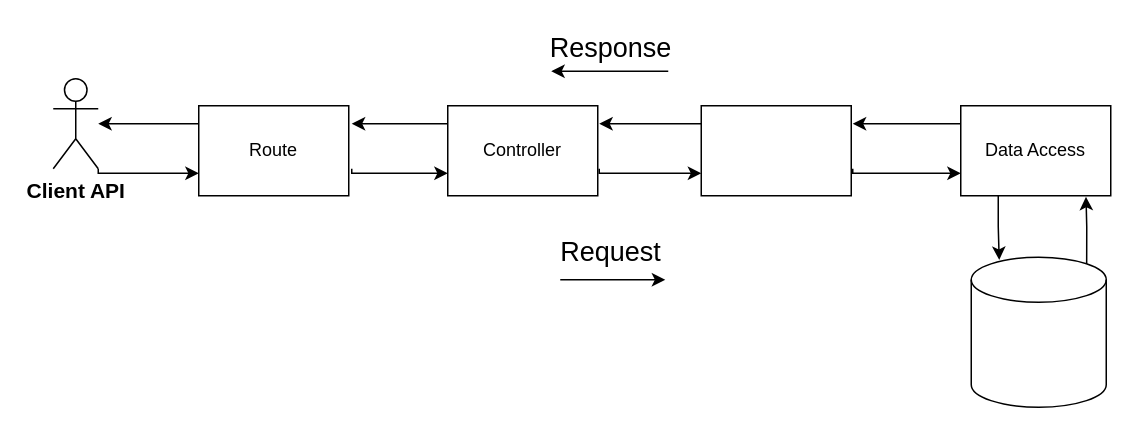
This 1137x434 diagram has some shape labels left out. Each missing label, with the box of its shape:
Database: (970, 256, 1106, 407)
Model: (700, 104, 851, 196)
